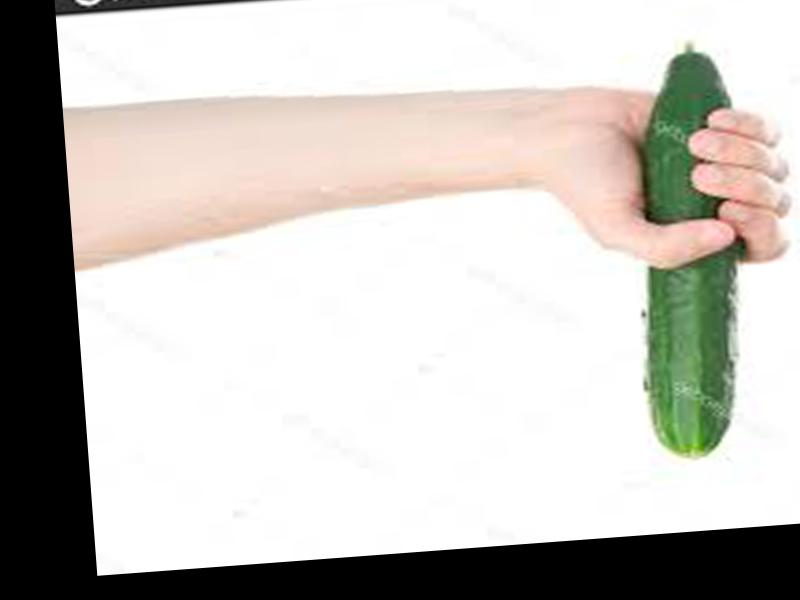Cucumber: (622, 41, 757, 460)
